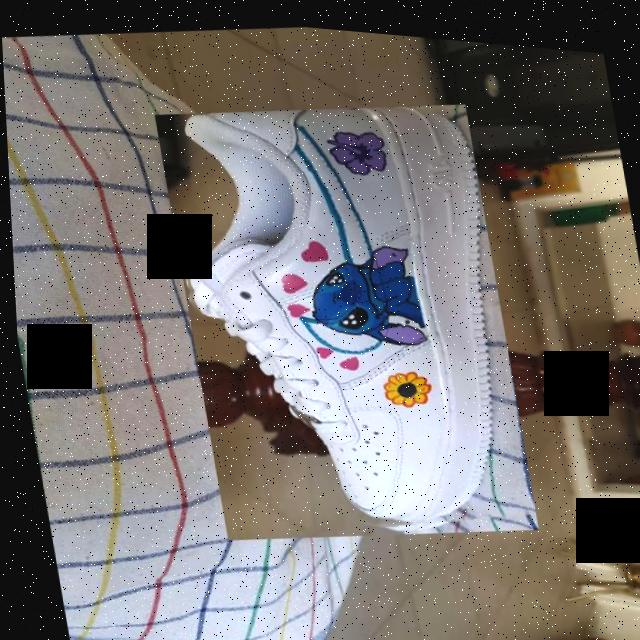shoe: (152, 73, 534, 558)
